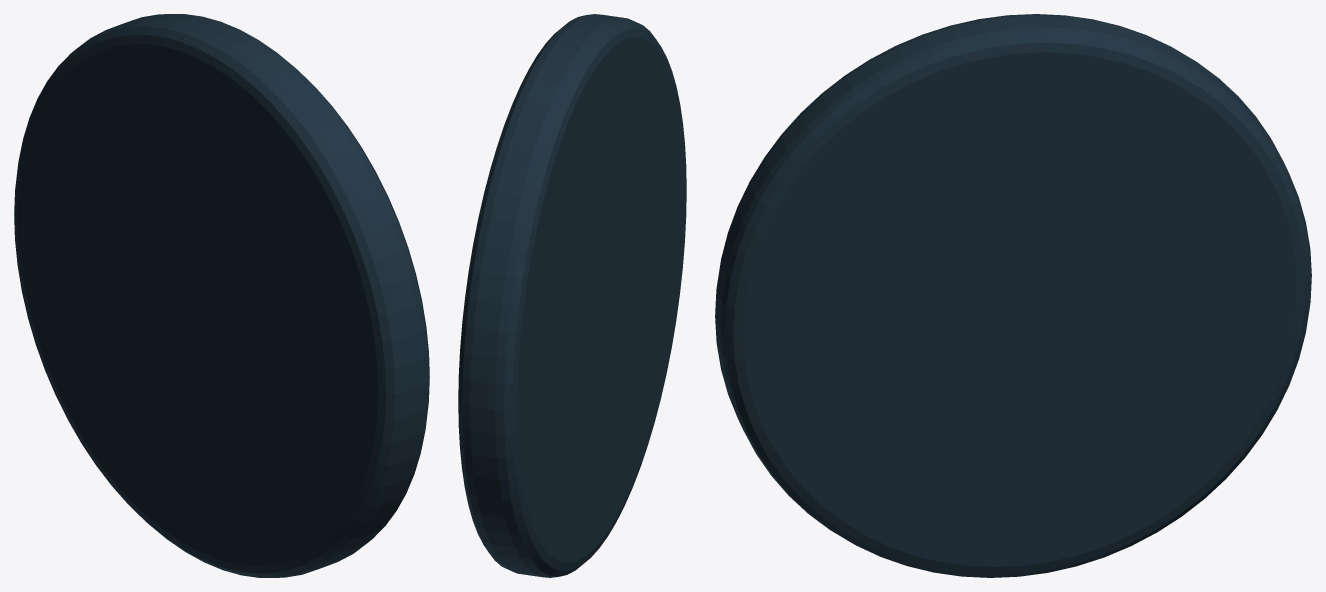
The model's file is SM_HC_BeatSpeaker_01.fbx.
3 renders of one model, left to right at view 1: azimuth 30°, elevation 25°; view 2: azimuth 150°, elevation 25°; view 3: azimuth 270°, elevation 25°, orthographic. The views are drawn at different scales.
Parts seen in each view (by area): view 1: SM_HC_BeatSpeaker_01; view 2: SM_HC_BeatSpeaker_01; view 3: SM_HC_BeatSpeaker_01.
Part boxes in pixels (<box>): SM_HC_BeatSpeaker_01: <box>14,14,429,577</box>; SM_HC_BeatSpeaker_01: <box>458,14,686,577</box>; SM_HC_BeatSpeaker_01: <box>715,14,1311,577</box>.
Bounding box in the file's own units: 37.56 × 127 × 128.
